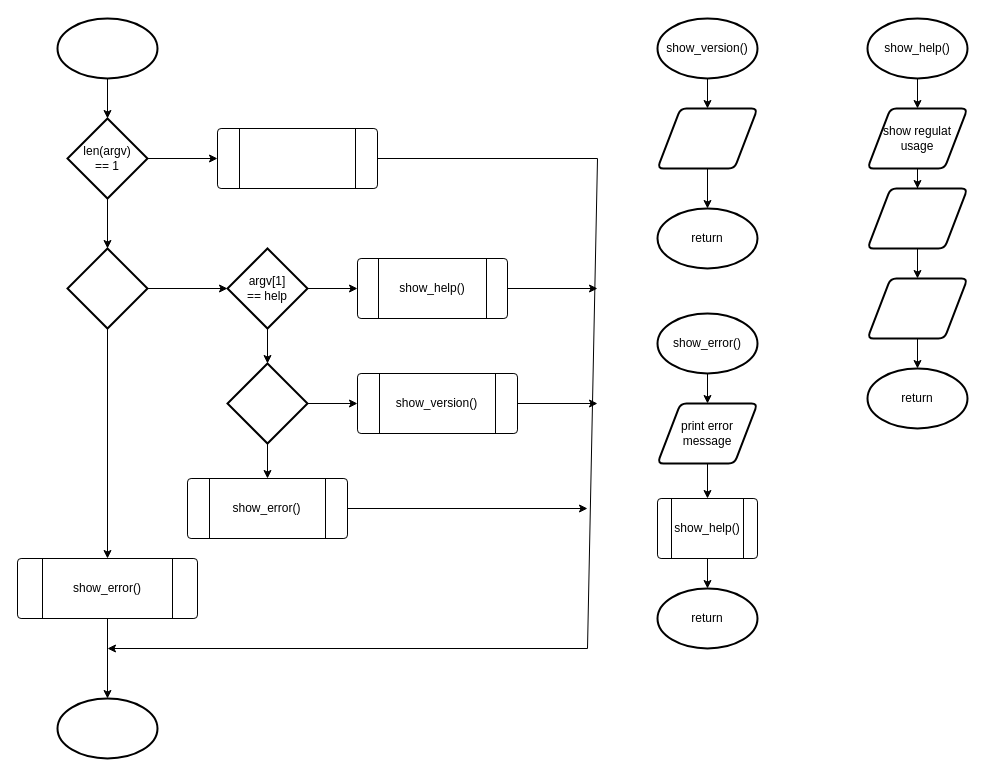
Some shapes in this 986 by 776 pixel diagram are drawn without their labels. Each missing label, with the box of its shape:
argv[1] == version: (226, 362, 308, 444)
do_program_logic(): (216, 128, 378, 188)
End: (56, 697, 158, 759)
len(argv) == 2: (66, 247, 148, 329)
print version: (656, 107, 758, 169)
show help usage: (866, 187, 968, 249)
show version usage: (866, 277, 968, 339)
Start: (56, 17, 158, 79)
